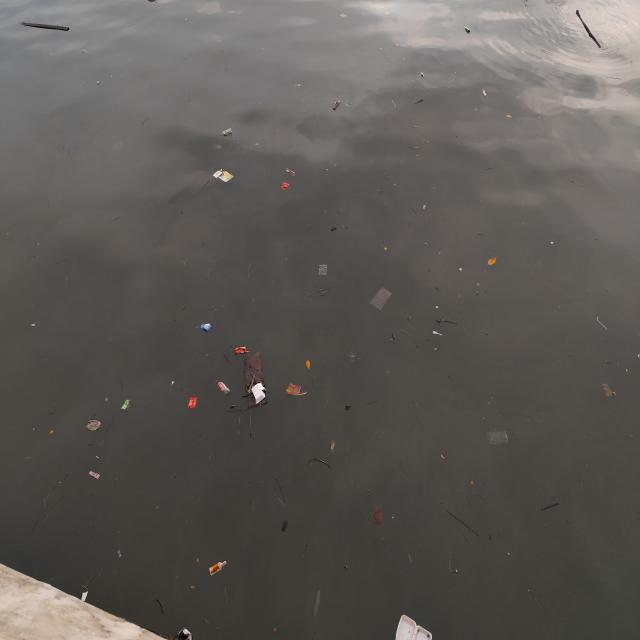Botol Plastik: (215, 378, 235, 400), (218, 128, 236, 138)
Bungkus Makanan: (392, 612, 436, 640), (286, 382, 307, 400), (251, 383, 267, 406), (187, 397, 199, 411), (286, 168, 298, 179)
Kantong Plastik: (369, 285, 395, 314), (87, 419, 104, 433), (197, 323, 215, 334), (319, 264, 329, 278), (281, 182, 290, 193)
